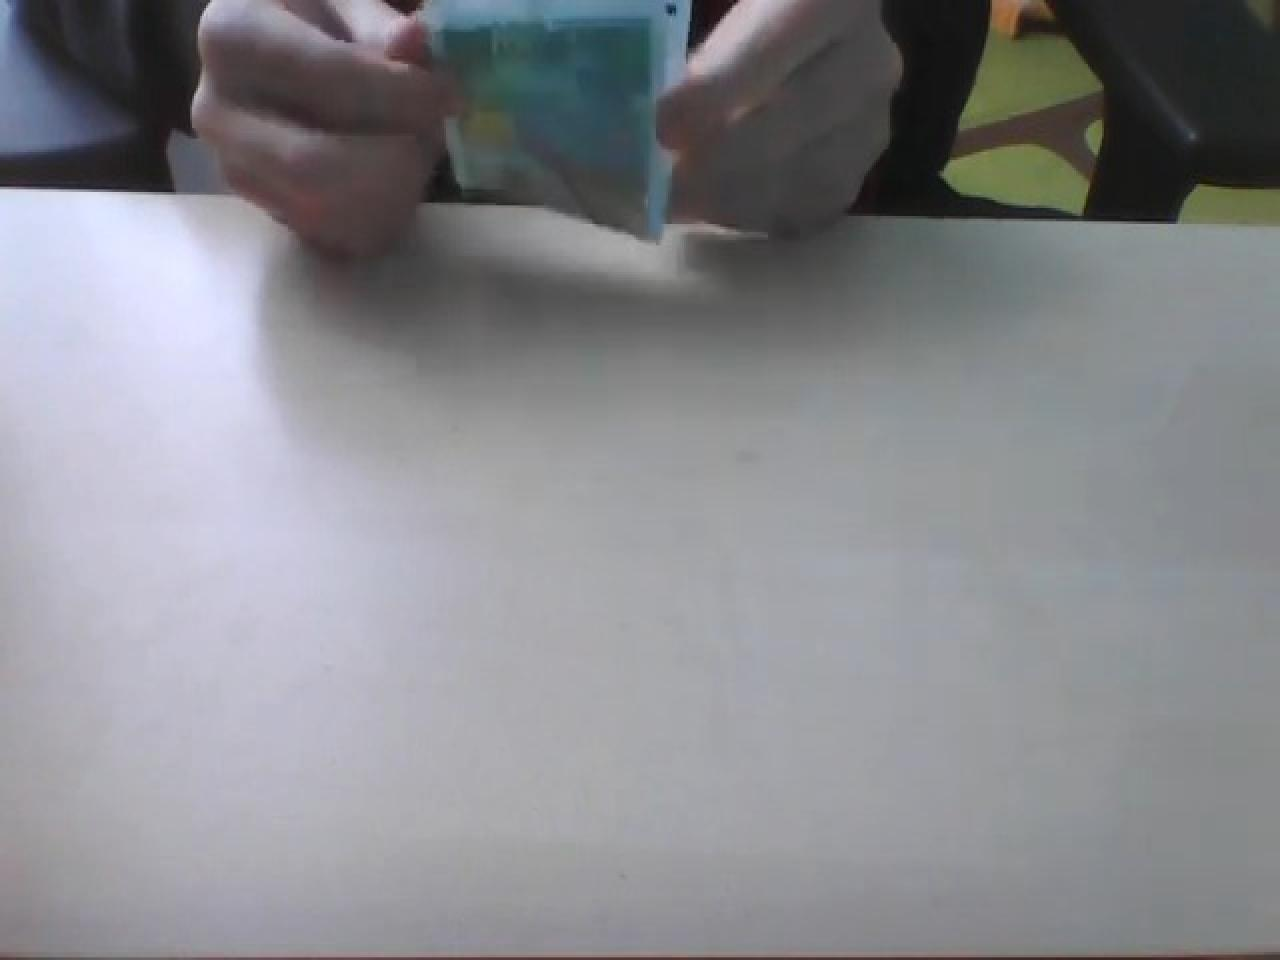100leva: (414, 0, 694, 243)
